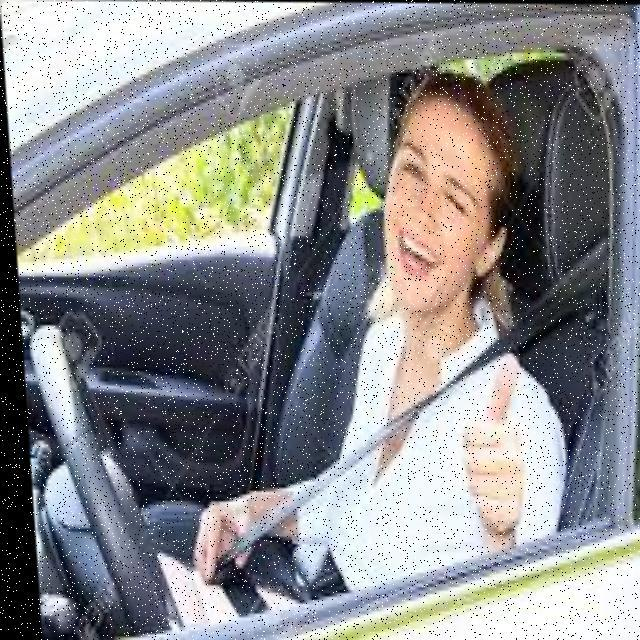seatbelt: (305, 306, 517, 582)
